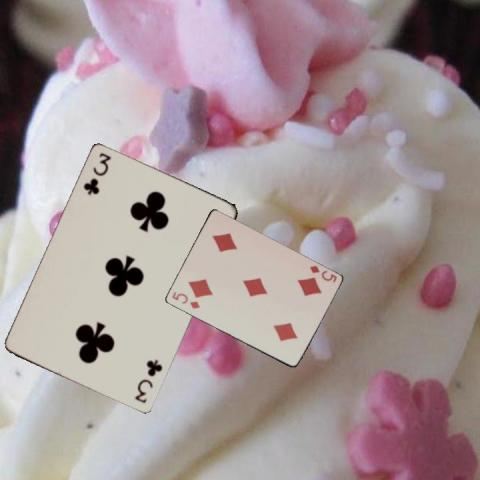3c: (132, 357, 164, 405), (81, 150, 113, 197)
5d: (169, 288, 201, 310), (306, 263, 338, 284)
